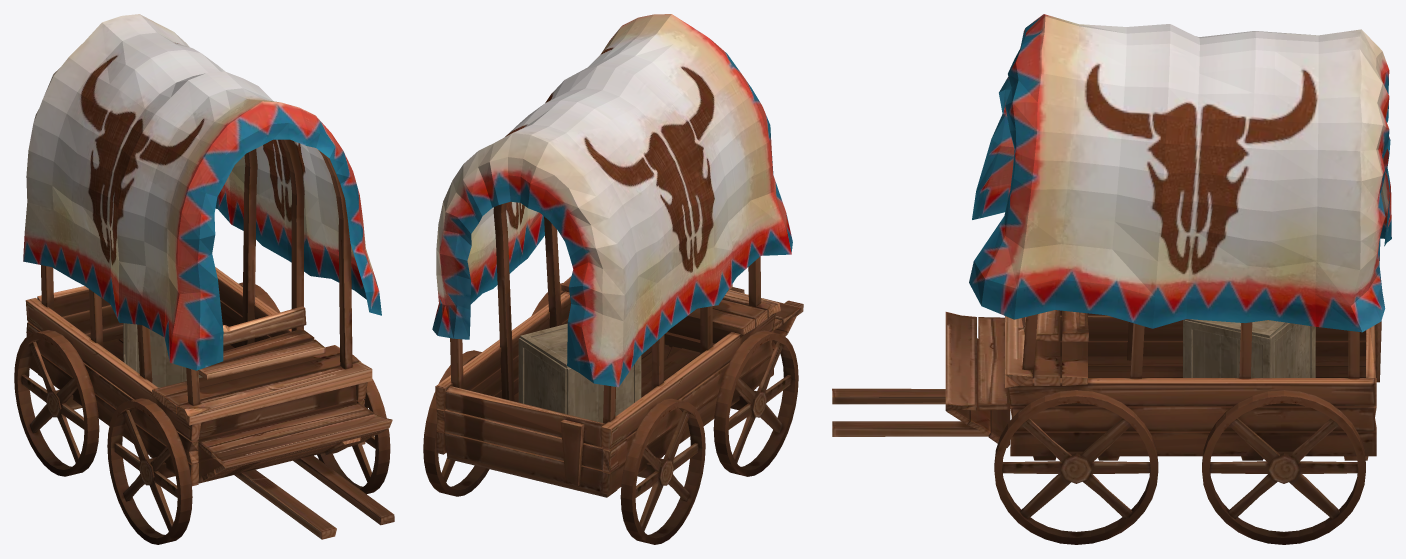
The picture shows the model from 3 angles, left to right: view 1: azimuth 30°, elevation 25°; view 2: azimuth 150°, elevation 25°; view 3: azimuth 270°, elevation 25°; orthographic projection. The views are drawn at different scales.
Visible parts, largest first — view 1: slot_canvas_top, slot_anchor_frame, slot_front_wheels, slot_bed_barrel; view 2: slot_canvas_top, slot_anchor_frame, slot_front_wheels, slot_bed_barrel; view 3: slot_canvas_top, slot_anchor_frame, slot_front_wheels, slot_bed_barrel.
Part boxes in pixels (bbox=[...]): slot_canvas_top: bbox=[23, 14, 381, 370]; slot_anchor_frame: bbox=[14, 139, 394, 539]; slot_front_wheels: bbox=[107, 354, 390, 544]; slot_bed_barrel: bbox=[123, 323, 202, 387]; slot_canvas_top: bbox=[432, 14, 792, 387]; slot_anchor_frame: bbox=[423, 203, 803, 544]; slot_front_wheels: bbox=[531, 283, 798, 476]; slot_bed_barrel: bbox=[518, 323, 641, 422]; slot_canvas_top: bbox=[969, 14, 1391, 332]; slot_anchor_frame: bbox=[832, 310, 1381, 544]; slot_front_wheels: bbox=[994, 390, 1158, 544]; slot_bed_barrel: bbox=[1183, 319, 1315, 377].
Bounding box in the file's own units: 0.9702 × 1.86 × 2.
2 materials, 2 textured.
